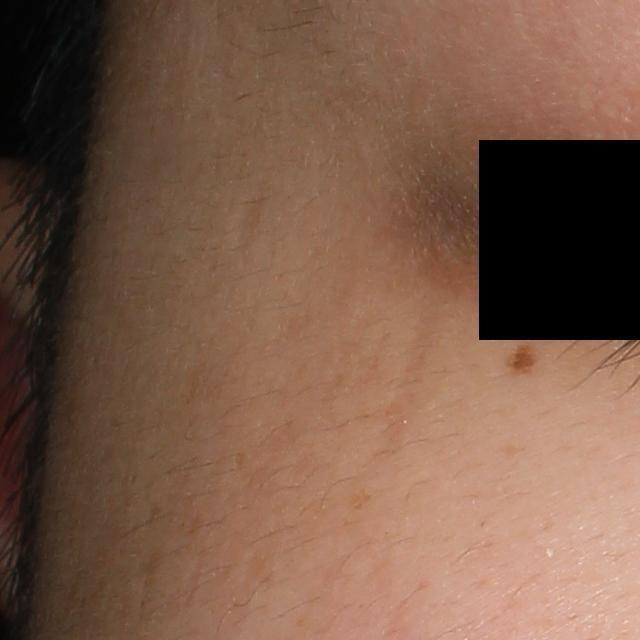nevus: (509, 339, 540, 374)
